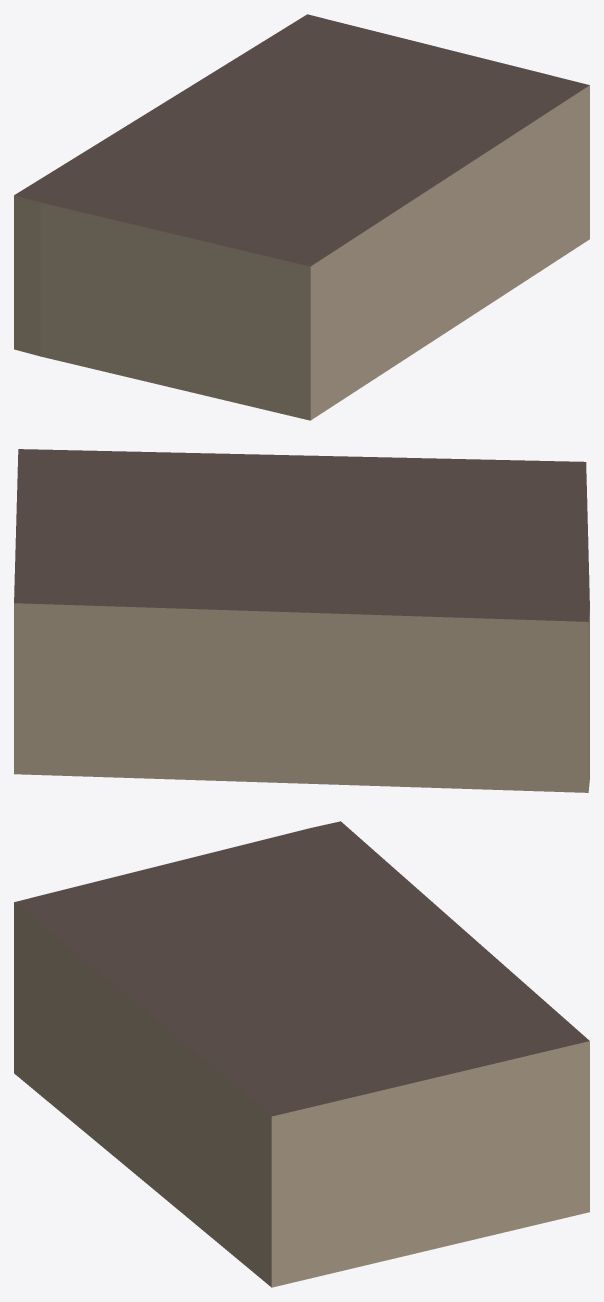
The picture shows the model from 3 angles, top to bottom: view 1: azimuth 30°, elevation 25°; view 2: azimuth 150°, elevation 25°; view 3: azimuth 270°, elevation 25°; orthographic projection. The views are drawn at different scales.
Parts seen in each view (by area): view 1: HP-w369237975; view 2: HP-w369237975; view 3: HP-w369237975.
Boxes of the visible parts, x1,y1,x2,y2 form: HP-w369237975: (14, 14, 589, 420); HP-w369237975: (14, 449, 589, 792); HP-w369237975: (14, 821, 589, 1287).
Size of the model in its own units: 33.3 by 9 by 27.45.
